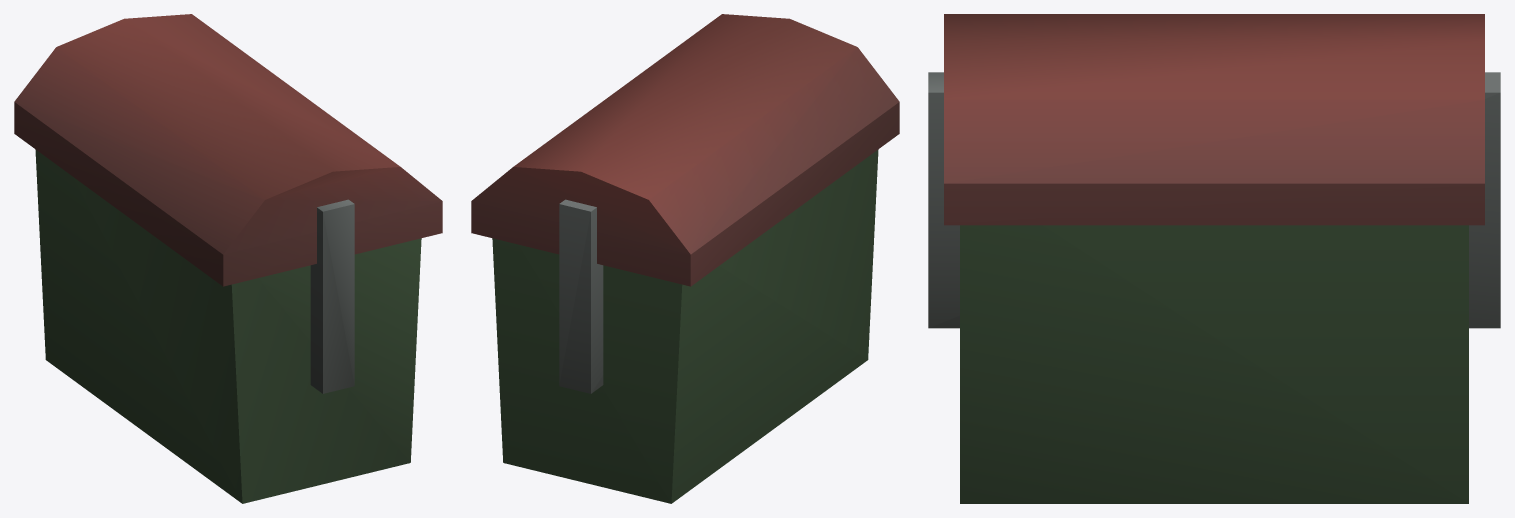
Rendered from ct_dumpster.glb.
3 views of the same model, side by side, from view 1: azimuth 30°, elevation 25°; view 2: azimuth 150°, elevation 25°; view 3: azimuth 270°, elevation 25° (orthographic). The views are drawn at different scales.
Visible parts, largest first — view 1: ct_dumpster; view 2: ct_dumpster; view 3: ct_dumpster.
Part boxes in pixels (left/top/right/bottom): ct_dumpster: left=14, top=14, right=442, bottom=503; ct_dumpster: left=471, top=14, right=899, bottom=503; ct_dumpster: left=928, top=14, right=1500, bottom=503.
Size of the model in its own units: 1.2 by 1.65 by 2.08.
